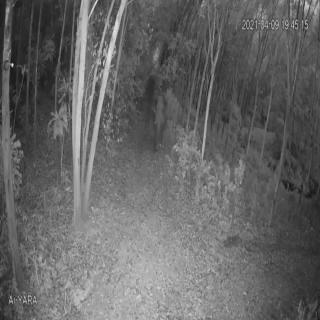Elephant: (150, 87, 168, 153)
